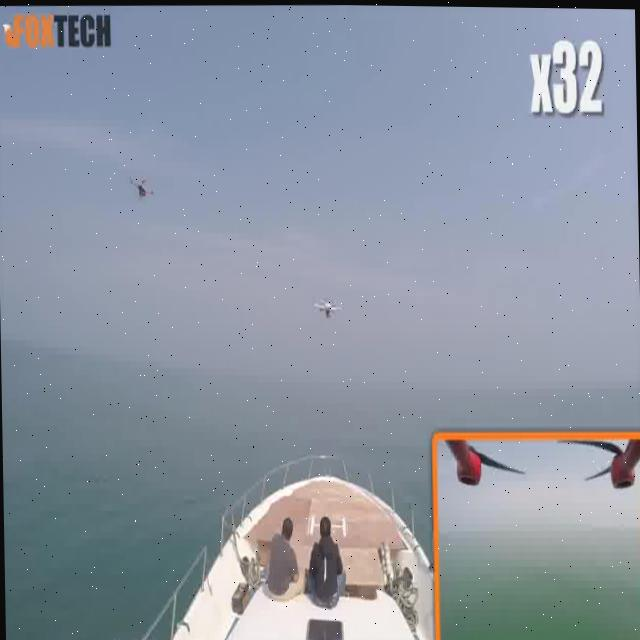drone: (307, 286, 346, 329), (124, 165, 158, 208)
